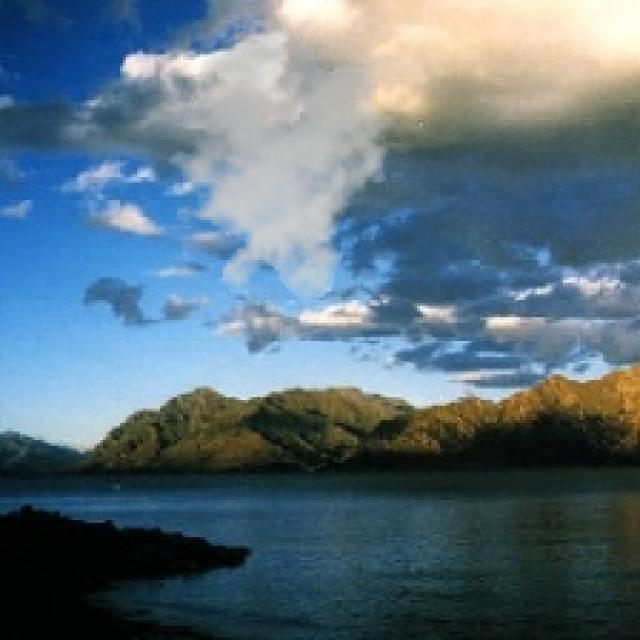smoke: (154, 26, 403, 303)
